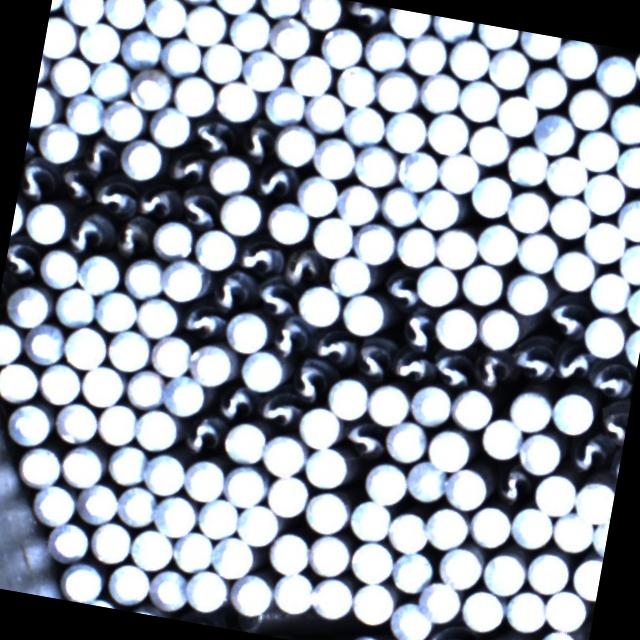tool: (0, 279, 55, 335), (187, 338, 240, 388), (59, 319, 110, 370), (348, 576, 398, 628), (480, 546, 530, 598), (304, 526, 354, 578), (464, 498, 514, 550), (56, 440, 108, 490), (550, 243, 600, 294), (579, 214, 630, 264), (292, 279, 344, 328), (300, 442, 352, 491), (138, 448, 188, 498), (262, 196, 312, 246), (306, 210, 356, 260), (150, 488, 200, 538), (512, 226, 562, 276), (334, 178, 384, 228), (302, 484, 352, 534), (562, 82, 612, 132), (50, 396, 100, 446), (220, 460, 270, 510), (360, 456, 410, 506), (220, 304, 270, 354), (226, 568, 276, 618), (208, 531, 257, 582), (5, 397, 54, 448), (266, 11, 316, 60), (410, 259, 460, 308), (316, 20, 366, 69), (197, 36, 246, 86), (74, 17, 124, 66), (76, 359, 126, 408), (258, 429, 308, 478), (145, 330, 194, 380), (579, 310, 628, 360), (507, 500, 556, 550), (182, 565, 231, 615), (346, 536, 396, 585), (422, 422, 472, 471), (363, 378, 412, 428), (338, 288, 388, 337), (116, 133, 166, 182), (524, 545, 572, 596), (211, 75, 260, 124), (325, 249, 374, 298), (413, 182, 462, 231), (516, 428, 565, 477), (581, 168, 630, 217), (75, 247, 124, 296), (21, 197, 70, 246), (350, 140, 400, 188), (46, 50, 94, 100), (309, 132, 359, 180), (466, 170, 514, 220), (104, 324, 152, 374), (407, 378, 455, 428), (126, 524, 176, 572), (179, 0, 229, 48), (120, 252, 168, 302), (180, 454, 228, 504), (432, 300, 480, 350), (240, 44, 288, 93), (194, 493, 242, 542), (126, 64, 175, 112), (92, 398, 140, 447), (35, 358, 83, 407), (271, 119, 319, 168), (442, 463, 490, 512), (475, 302, 523, 351), (421, 502, 470, 550), (382, 506, 430, 555), (160, 254, 208, 303), (414, 576, 462, 625), (49, 281, 98, 329), (234, 499, 282, 548), (204, 148, 253, 196), (350, 216, 397, 266), (502, 270, 552, 317), (226, 6, 274, 54), (540, 586, 588, 634), (168, 528, 216, 576), (133, 404, 181, 452), (112, 482, 160, 530), (293, 169, 341, 217), (458, 586, 506, 634), (86, 518, 134, 566), (98, 94, 146, 142), (160, 370, 208, 418), (308, 574, 356, 622), (372, 65, 420, 113), (360, 26, 408, 74), (391, 220, 439, 268), (216, 189, 264, 237), (473, 218, 521, 266), (190, 223, 238, 271), (548, 388, 596, 436), (264, 471, 312, 519), (529, 109, 577, 157), (324, 372, 372, 420), (436, 542, 484, 590), (345, 495, 393, 543), (296, 401, 344, 449), (31, 478, 79, 526), (220, 416, 268, 464), (331, 59, 378, 108), (448, 382, 494, 432), (260, 80, 308, 127), (120, 364, 167, 412), (464, 120, 512, 167), (402, 457, 449, 505), (425, 108, 472, 156), (170, 70, 218, 117), (133, 292, 180, 340), (504, 185, 552, 232), (381, 106, 428, 153), (484, 44, 531, 91), (434, 148, 481, 195), (157, 31, 204, 78), (586, 267, 633, 314), (575, 125, 622, 172), (593, 49, 640, 96), (265, 528, 312, 575), (73, 480, 120, 527), (524, 64, 571, 111), (57, 558, 104, 605), (16, 442, 63, 489), (36, 243, 83, 290), (456, 75, 502, 123), (503, 140, 549, 188), (286, 50, 334, 96), (340, 100, 388, 146), (458, 258, 504, 306), (92, 286, 138, 334), (102, 440, 148, 488), (61, 89, 107, 137), (270, 568, 316, 616), (546, 192, 592, 240), (238, 346, 286, 392), (382, 416, 428, 463), (502, 587, 548, 634), (146, 102, 193, 148), (550, 508, 596, 555), (87, 56, 133, 103), (116, 24, 163, 70), (394, 144, 439, 192), (22, 320, 67, 368), (385, 597, 435, 640), (302, 88, 348, 134), (432, 224, 478, 270), (104, 560, 150, 606), (403, 30, 449, 76), (388, 548, 434, 594), (532, 470, 578, 516), (376, 181, 421, 228), (552, 37, 600, 81), (146, 564, 190, 612), (572, 476, 616, 524), (446, 37, 492, 82), (541, 152, 587, 197), (508, 387, 554, 432), (495, 89, 540, 135), (35, 120, 82, 164), (478, 416, 524, 460), (0, 354, 41, 403), (140, 0, 190, 40), (46, 518, 91, 562), (150, 215, 195, 259), (418, 70, 462, 114), (42, 13, 80, 60), (568, 550, 604, 598), (29, 83, 62, 132), (606, 98, 640, 145), (101, 0, 149, 31), (611, 140, 640, 190), (228, 606, 276, 636), (297, 0, 343, 31), (386, 7, 432, 38), (58, 0, 107, 27), (474, 22, 518, 52), (516, 30, 560, 60), (429, 15, 474, 43), (615, 194, 640, 242), (0, 318, 25, 366), (615, 238, 640, 285), (255, 0, 300, 20), (533, 623, 582, 640), (211, 0, 258, 16), (623, 280, 640, 324), (344, 628, 389, 640), (631, 51, 640, 88)
tool_b: (539, 289, 590, 345), (286, 352, 338, 406), (507, 333, 559, 387), (586, 350, 636, 403), (252, 388, 306, 436), (64, 206, 116, 255), (90, 169, 140, 219), (208, 265, 258, 315), (376, 261, 426, 311), (564, 430, 614, 480), (110, 208, 158, 260), (181, 409, 229, 459), (232, 232, 286, 276), (489, 459, 538, 506), (250, 156, 300, 202), (279, 244, 329, 290), (160, 146, 212, 190), (396, 301, 440, 352), (178, 298, 228, 342), (76, 131, 122, 177), (250, 272, 296, 318), (471, 347, 517, 393), (588, 398, 630, 448), (17, 156, 62, 202), (213, 382, 260, 426), (172, 187, 220, 230), (340, 414, 386, 458), (430, 347, 476, 391), (236, 118, 278, 166), (353, 332, 395, 380), (267, 313, 312, 356), (552, 338, 594, 384), (310, 327, 357, 368), (190, 118, 238, 158), (56, 163, 98, 208), (135, 180, 181, 220), (2, 236, 42, 282), (392, 342, 433, 384), (341, 0, 389, 28), (425, 621, 471, 640)
